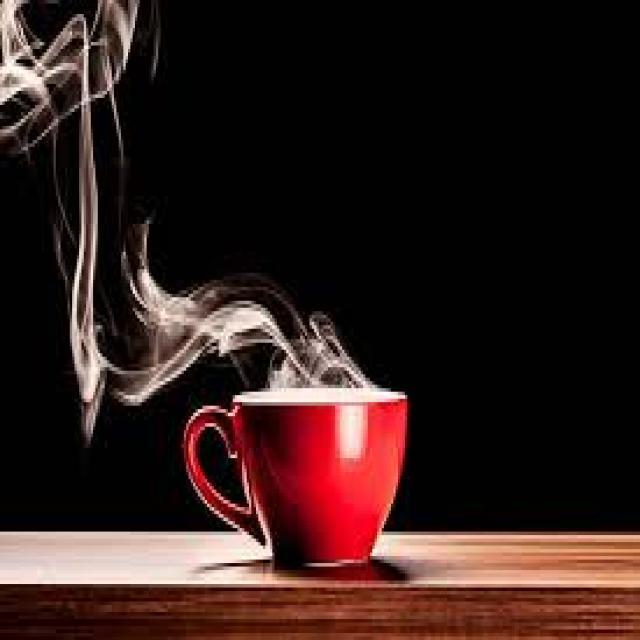taza: (178, 376, 419, 580)
